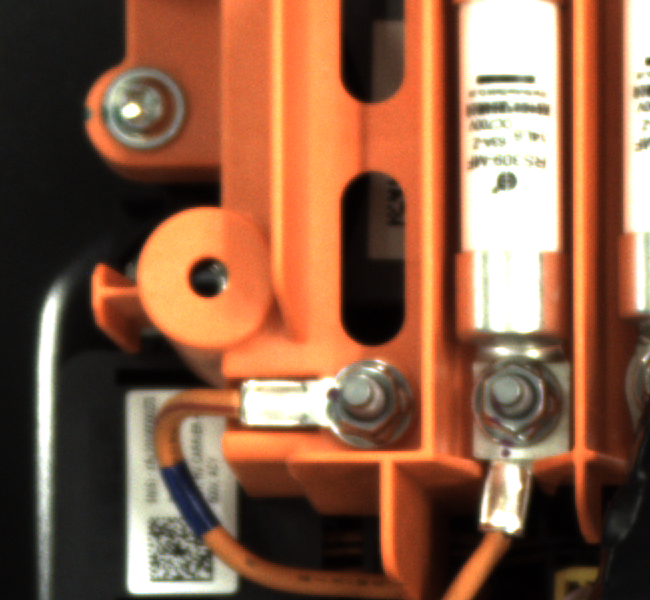screw_m: (89, 55, 197, 157)
screw_s: (304, 362, 419, 448), (469, 354, 569, 450)
